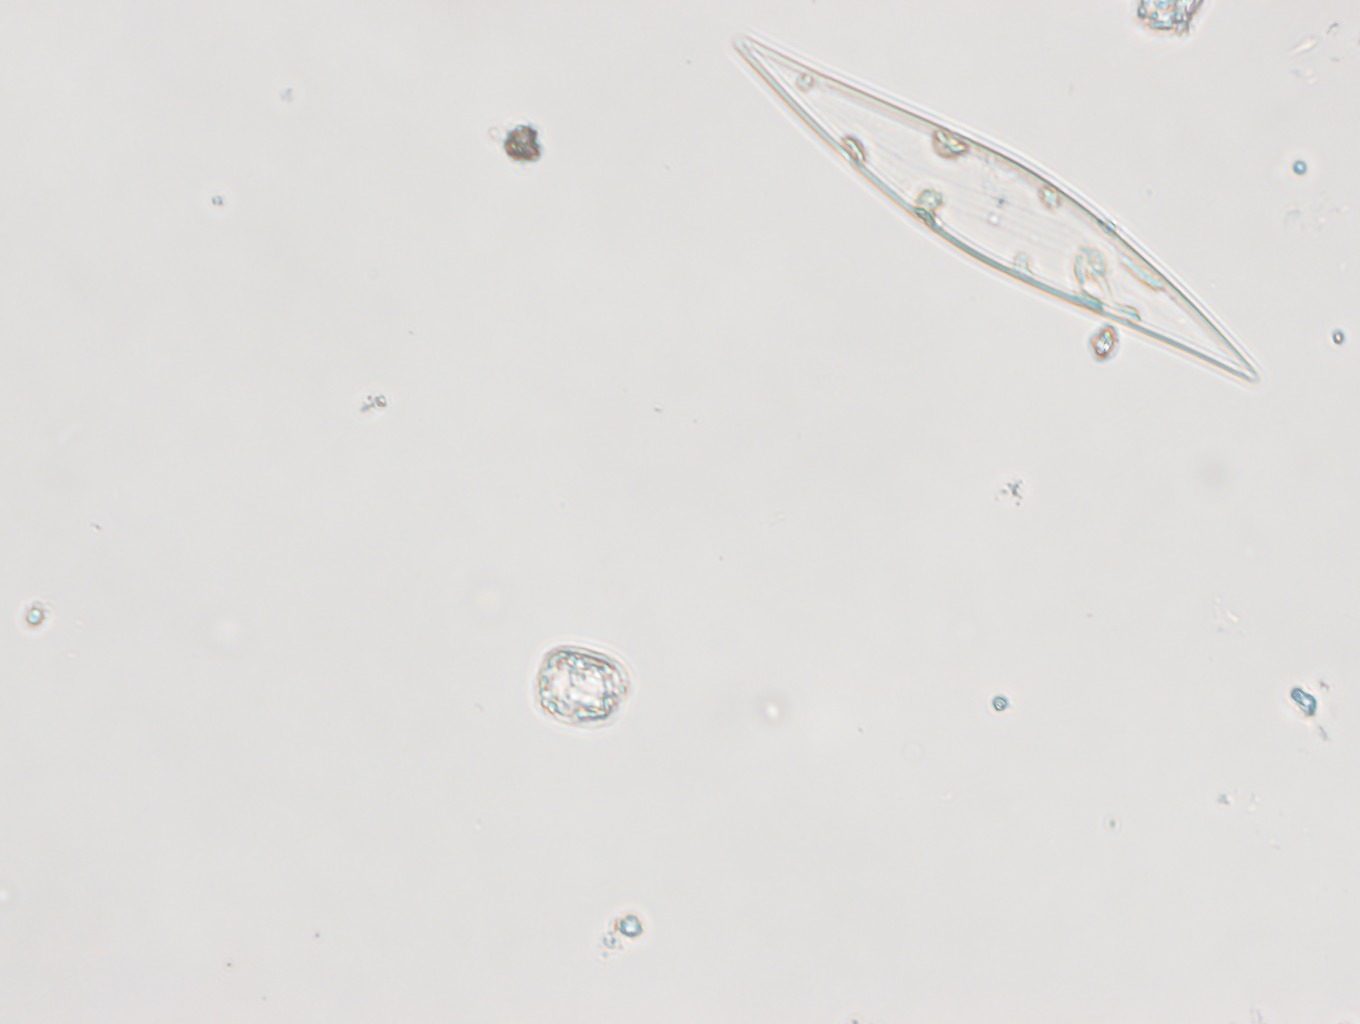pleurosigma pelagicum: (735, 33, 1261, 385)
